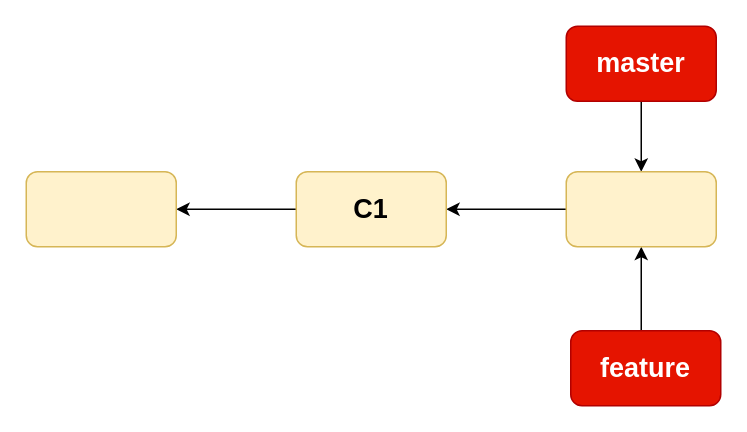
This 747x432 diagram has some shape labels left out. Here are the shapes that lost their labels. From the top down, the centre of each, then its label:
point (100, 208): C0
point (640, 208): C2
